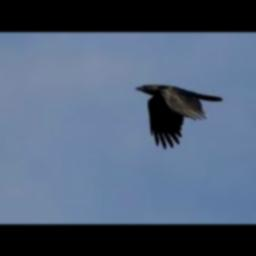Crow: (134, 85, 222, 149)
